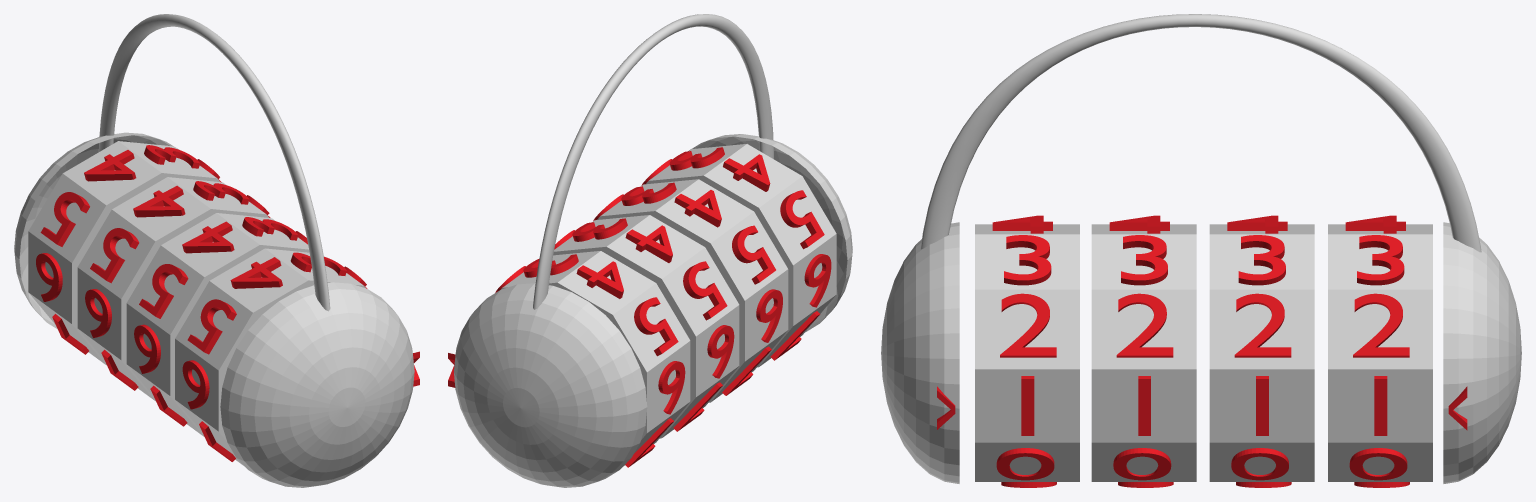
File: lock1.fbx
3 renders of one model, left to right at view 1: azimuth 30°, elevation 25°; view 2: azimuth 150°, elevation 25°; view 3: azimuth 270°, elevation 25°, orthographic. The views are drawn at different scales.
Parts seen in each view (by area): view 1: Sphere, Cylinder.004, Cylinder.003, Cylinder.002, Cylinder.001, NurbsPath, Sphere.001, Text.004, Text.035, Text.036, Text.026, Text.025 (+11 smaller); view 2: Sphere.001, Cylinder.003, Cylinder.002, Cylinder.001, Cylinder.004, NurbsPath, Sphere, Text.035, Text.025, Text.005, Text.015, Text.026 (+15 smaller); view 3: Cylinder.002, Cylinder.003, Cylinder.004, Cylinder.001, Sphere, Sphere.001, NurbsPath, Text.028, Text.018, Text.038, Text.002, Text.037 (+15 smaller).
Part boxes in pixels (bbox=[...]): Sphere: bbox=[220, 282, 414, 487]; Cylinder.004: bbox=[28, 141, 219, 365]; Cylinder.003: bbox=[77, 177, 269, 401]; Cylinder.002: bbox=[126, 213, 309, 436]; Cylinder.001: bbox=[175, 248, 365, 465]; NurbsPath: bbox=[98, 14, 330, 311]; Sphere.001: bbox=[14, 132, 178, 329]; Text.004: bbox=[230, 257, 282, 288]; Text.035: bbox=[40, 192, 89, 246]; Text.036: bbox=[84, 150, 136, 181]; Text.026: bbox=[133, 185, 185, 217]; Text.025: bbox=[90, 228, 139, 283]; Sphere.001: bbox=[454, 283, 647, 487]; Cylinder.003: bbox=[553, 215, 739, 438]; Cylinder.002: bbox=[597, 179, 788, 402]; Cylinder.001: bbox=[646, 144, 836, 367]; Cylinder.004: bbox=[501, 251, 690, 465]; NurbsPath: bbox=[533, 14, 773, 309]; Sphere: bbox=[688, 134, 852, 332]; Text.035: bbox=[634, 297, 678, 356]; Text.025: bbox=[683, 261, 727, 320]; Text.005: bbox=[780, 190, 824, 249]; Text.015: bbox=[732, 225, 775, 284]; Text.026: bbox=[625, 225, 672, 262]; Cylinder.002: bbox=[1091, 224, 1196, 481]; Cylinder.003: bbox=[1209, 224, 1314, 481]; Cylinder.004: bbox=[1328, 224, 1432, 481]; Cylinder.001: bbox=[975, 224, 1079, 481]; Sphere: bbox=[881, 222, 959, 483]; Sphere.001: bbox=[1443, 222, 1521, 483]; NurbsPath: bbox=[920, 14, 1481, 252]; Text.028: bbox=[1234, 293, 1291, 357]; Text.018: bbox=[1116, 293, 1173, 357]; Text.038: bbox=[1353, 293, 1409, 357]; Text.002: bbox=[1000, 293, 1056, 357]; Text.037: bbox=[1357, 235, 1404, 285].
Bounding box in the file's own units: 201 × 386 × 489.
